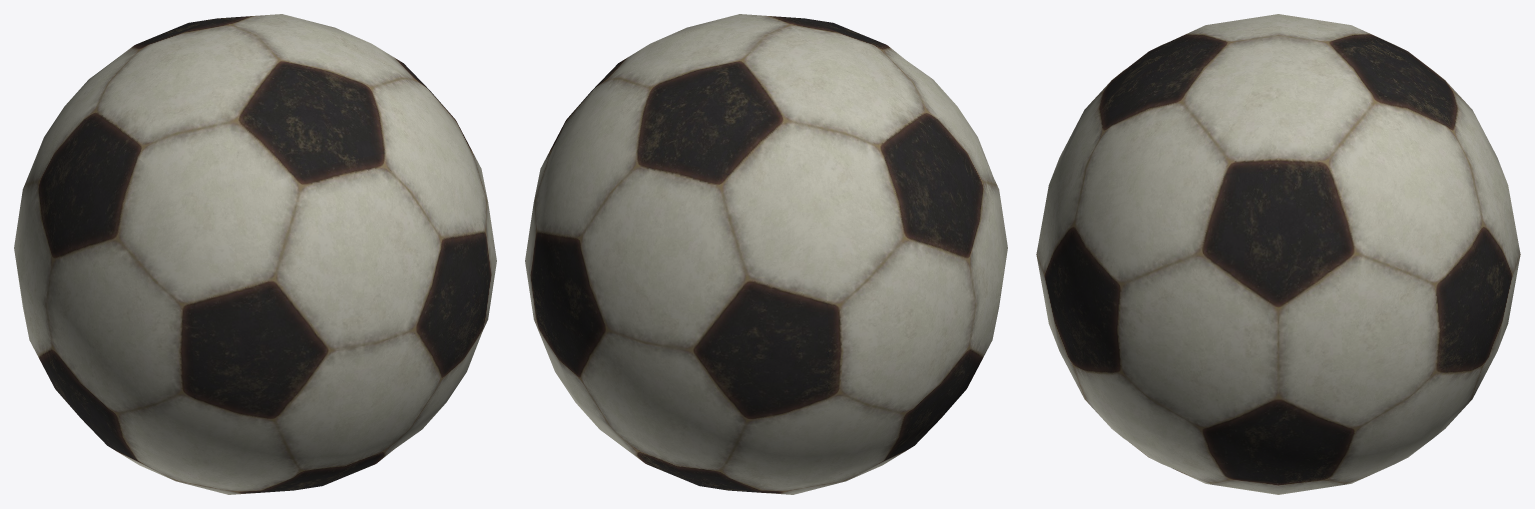
Rendered from soccerBall.glb.
The picture shows the model from 3 angles, left to right: view 1: azimuth 30°, elevation 25°; view 2: azimuth 150°, elevation 25°; view 3: azimuth 270°, elevation 25°; orthographic projection.
Visible parts, largest first — view 1: g; view 2: g; view 3: g.
Part boxes in pixels (bbox=[...]): g: bbox=[14, 14, 496, 494]; g: bbox=[525, 14, 1007, 494]; g: bbox=[1036, 14, 1520, 494].
Size of the model in its own units: 2 by 2 by 2.
1 material, 1 textured.
